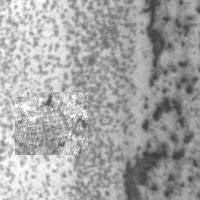crazing: (15, 92, 88, 155)
patches: (122, 152, 163, 200)
pitted_surface: (1, 1, 125, 198), (132, 1, 200, 195)
